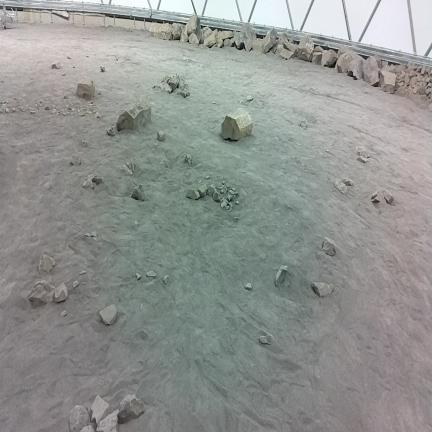Rock: (117, 101, 151, 131), (222, 108, 253, 140), (119, 394, 144, 423), (28, 281, 55, 306), (270, 34, 298, 56), (296, 34, 314, 62), (91, 396, 109, 424), (69, 406, 89, 431), (363, 57, 379, 86), (97, 410, 118, 431), (241, 23, 256, 51), (380, 70, 396, 93), (187, 15, 201, 41), (348, 55, 363, 79), (150, 23, 172, 39), (100, 305, 117, 325), (263, 28, 276, 53), (78, 81, 95, 100), (321, 49, 338, 68), (336, 53, 352, 73), (39, 254, 55, 274), (312, 283, 334, 296), (322, 237, 336, 256), (54, 283, 67, 302), (275, 266, 287, 286), (172, 23, 185, 40), (204, 30, 217, 47), (233, 31, 244, 49), (312, 46, 323, 64), (335, 178, 347, 194), (201, 27, 213, 43), (132, 185, 144, 201), (123, 160, 135, 175), (82, 174, 94, 189), (371, 190, 384, 203), (252, 39, 264, 53), (259, 334, 274, 345), (338, 46, 354, 56), (357, 146, 370, 158), (382, 190, 393, 204), (160, 83, 173, 94), (280, 48, 293, 59), (188, 33, 199, 45), (168, 77, 178, 90), (180, 26, 188, 42), (219, 31, 233, 40), (187, 189, 199, 199), (207, 184, 216, 197), (374, 55, 382, 69), (35, 101, 49, 109), (185, 154, 194, 166), (198, 185, 207, 197), (177, 89, 190, 97), (220, 198, 229, 209), (179, 77, 187, 89), (71, 156, 81, 165), (217, 32, 223, 47), (93, 176, 104, 184), (342, 178, 353, 186), (224, 39, 234, 47), (81, 425, 94, 431), (213, 191, 220, 202), (85, 232, 96, 239), (107, 127, 115, 136), (275, 45, 283, 54), (158, 131, 165, 141), (52, 62, 60, 69), (300, 120, 307, 128), (220, 186, 228, 193), (147, 271, 156, 277), (419, 86, 425, 95), (245, 283, 252, 290), (95, 112, 102, 119), (81, 140, 88, 147), (162, 276, 168, 284), (227, 194, 233, 202), (73, 281, 79, 288), (413, 86, 418, 94), (61, 311, 67, 317), (79, 270, 86, 275), (136, 273, 141, 280), (421, 67, 425, 75), (405, 75, 409, 83), (247, 96, 253, 101), (100, 66, 105, 72), (230, 188, 235, 193), (79, 112, 84, 116), (6, 108, 10, 113), (86, 111, 92, 114), (45, 106, 49, 110), (235, 201, 239, 205), (30, 76, 34, 80), (234, 217, 238, 221), (30, 111, 35, 114), (62, 113, 67, 116), (222, 180, 225, 185), (141, 303, 143, 310), (230, 204, 232, 211), (62, 72, 65, 76), (0, 78, 3, 82), (135, 221, 138, 225), (206, 176, 209, 179), (13, 108, 15, 112)
